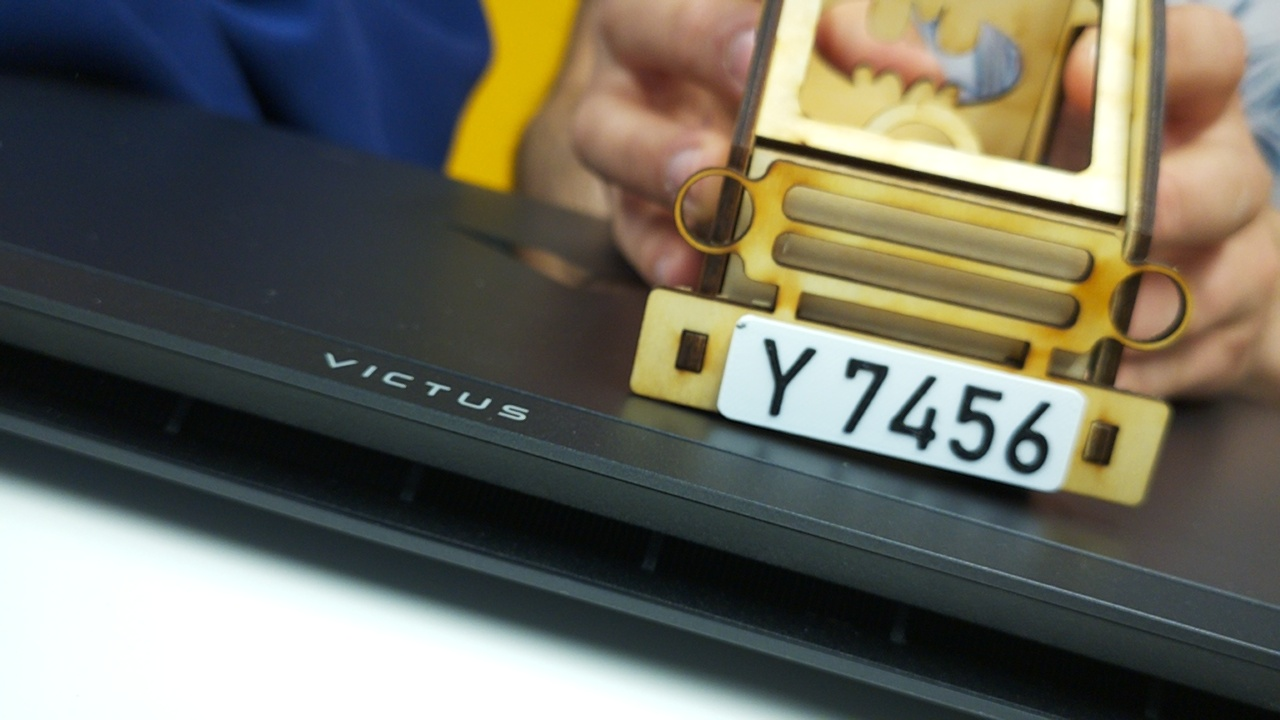license_plate: (714, 311, 1088, 495)
